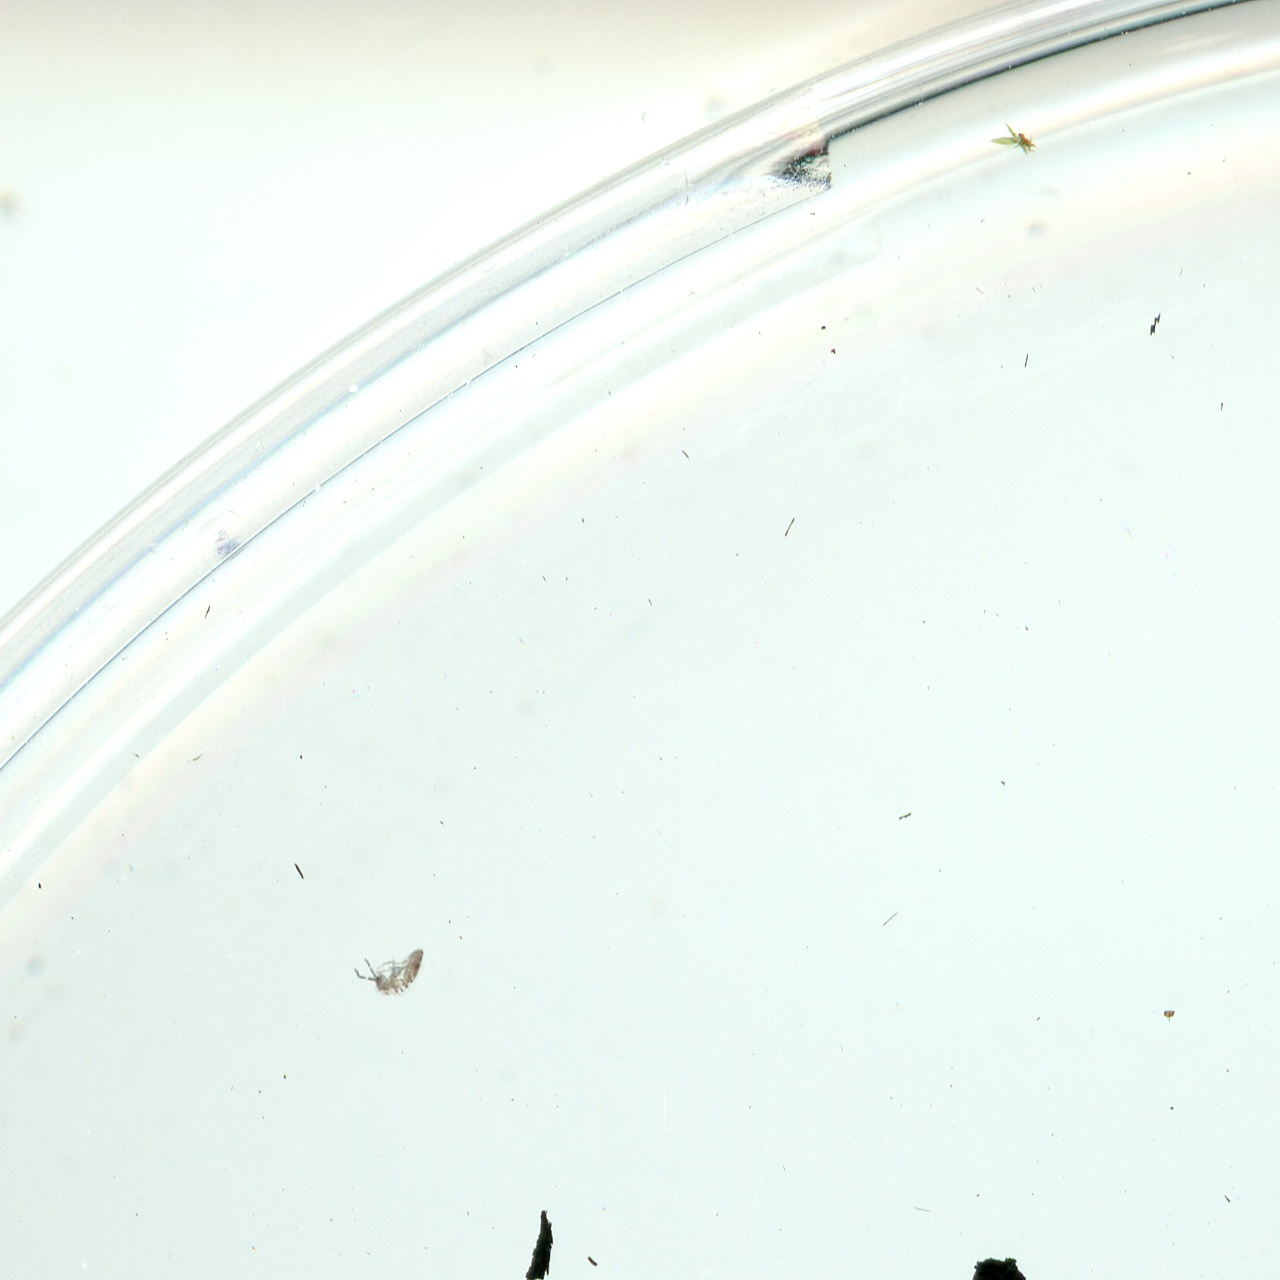arthropod: (351, 947, 427, 999)
